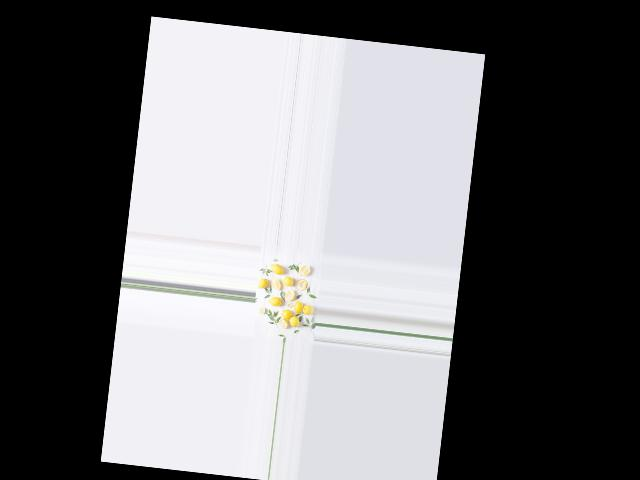lemon: (301, 301, 313, 316)
